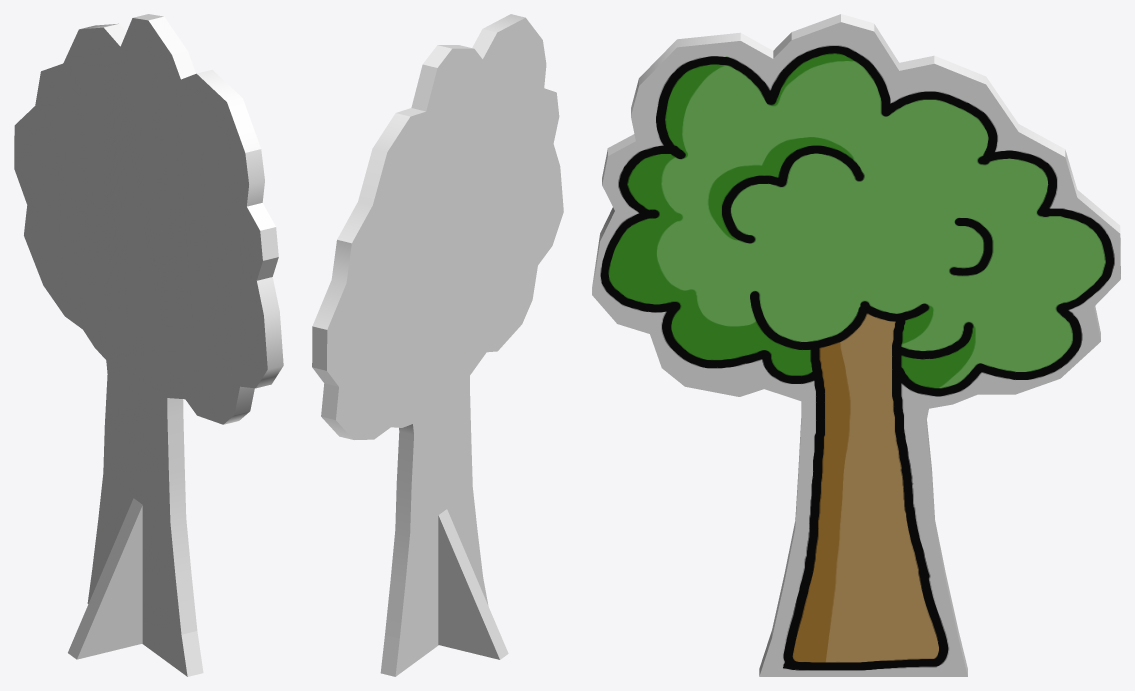
The model's file is tree 1.fbx.
3 renders of one model, left to right at view 1: azimuth 30°, elevation 25°; view 2: azimuth 150°, elevation 25°; view 3: azimuth 270°, elevation 25°, orthographic. The views are drawn at different scales.
Visible parts, largest first — view 1: pCube57, pCube56; view 2: pCube57, pCube56; view 3: pCube57.
Boxes of the visible parts, left/top/right/bottom form: pCube57: left=14, top=14, right=283, bottom=676; pCube56: left=68, top=498, right=142, bottom=659; pCube57: left=312, top=14, right=563, bottom=676; pCube56: left=438, top=509, right=508, bottom=659; pCube57: left=592, top=14, right=1120, bottom=676.
Size of the model in its own units: 2.57 by 18.85 by 13.8.
